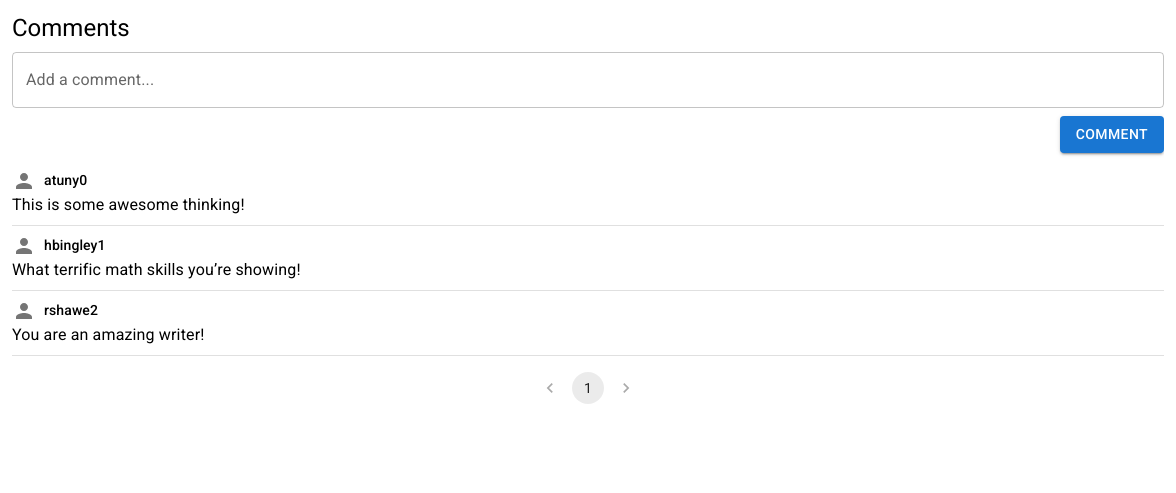
Test: renders error message when failed to add comment and hides it when succeeded to add comment
The image size is (1176, 493).
Expected: the number of elements with test id "comment-list-item" is 3, [12,168,245,214]; [12,234,301,278]; [12,298,204,344]
Type "Test comment" into the text box labelled "Add a comment...".
click(588, 80); type("Test comment")  # box [26,68,1150,92]
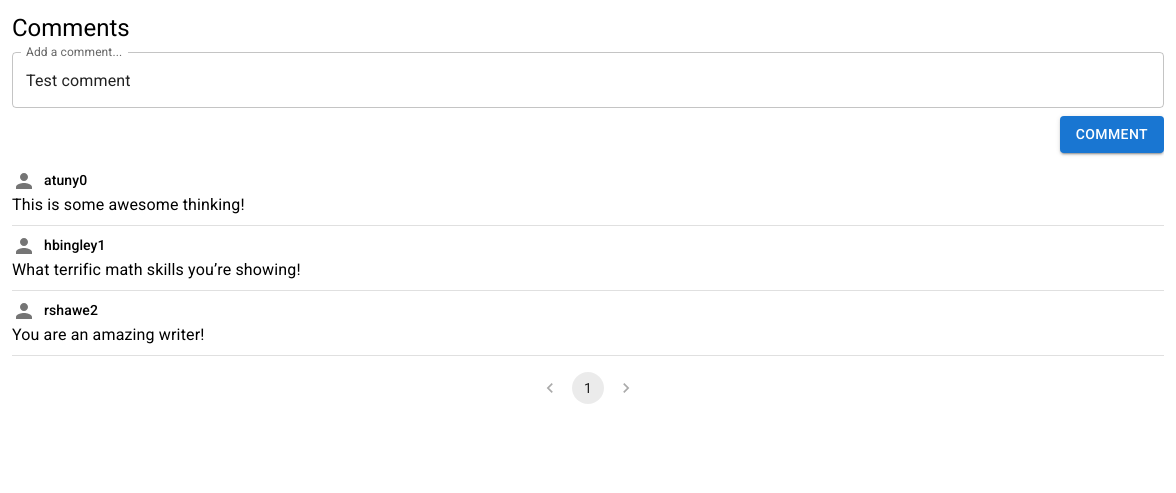
Click the button "Comment".
click(1112, 134)  # box [1060,116,1164,152]
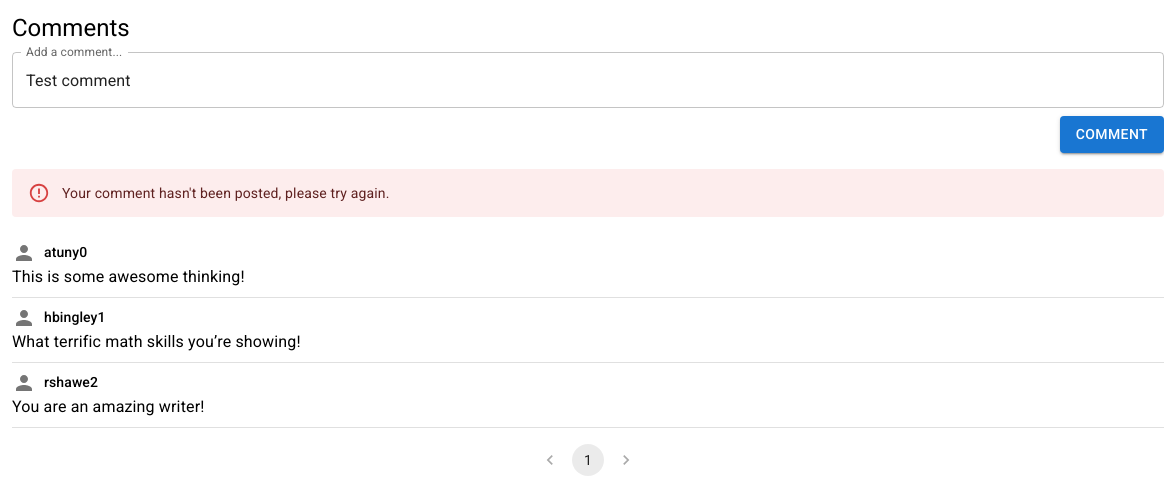
Expected: the number of elements with test id "comment-list-item" is 3, [12,240,245,286]; [12,306,301,350]; [12,370,204,416]
Expected: the text "Your comment hasn't been posted, please try again." is shown, [62,184,390,200]
Click the button "Comment".
click(1112, 134)  # box [1060,116,1164,152]
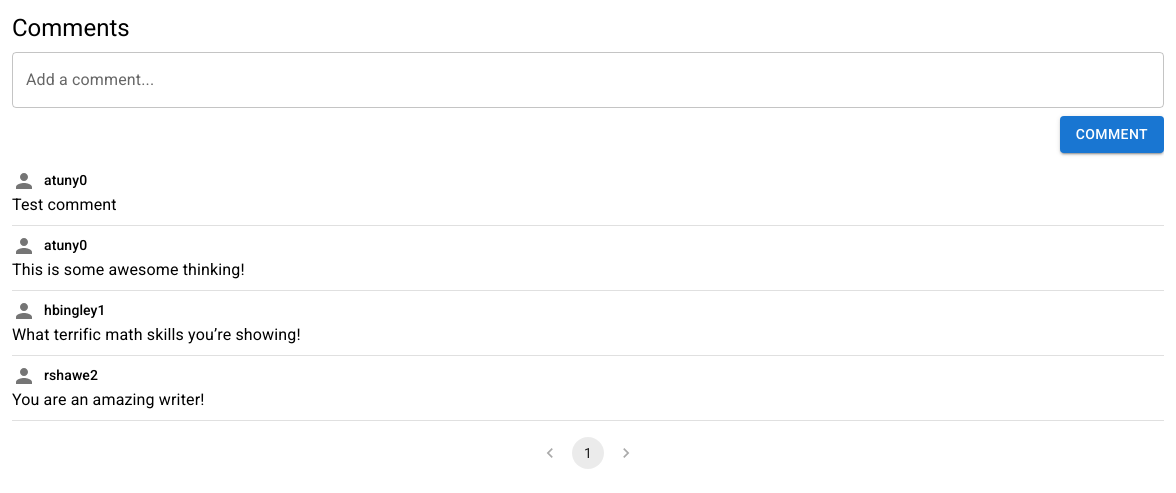
Expected: the text box labelled "Add a comment..." is empty, [26,68,1150,92]
Expected: the number of elements with test id "comment-list-item" is 4, [12,168,117,214]; [12,234,245,278]; [12,298,301,344]; [12,364,204,408]
Expected: the text "Your comment hasn't been posted, please try again." is gone
